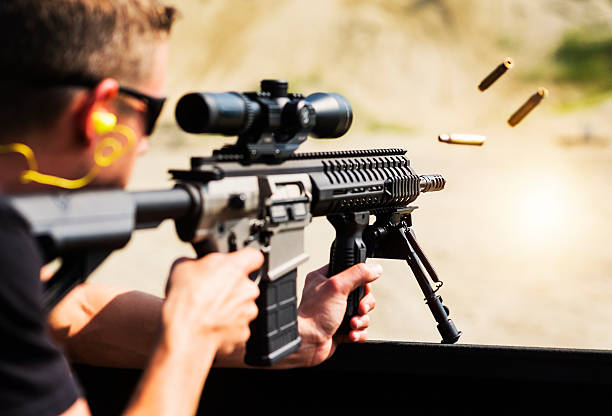rifle: (20, 84, 473, 367)
